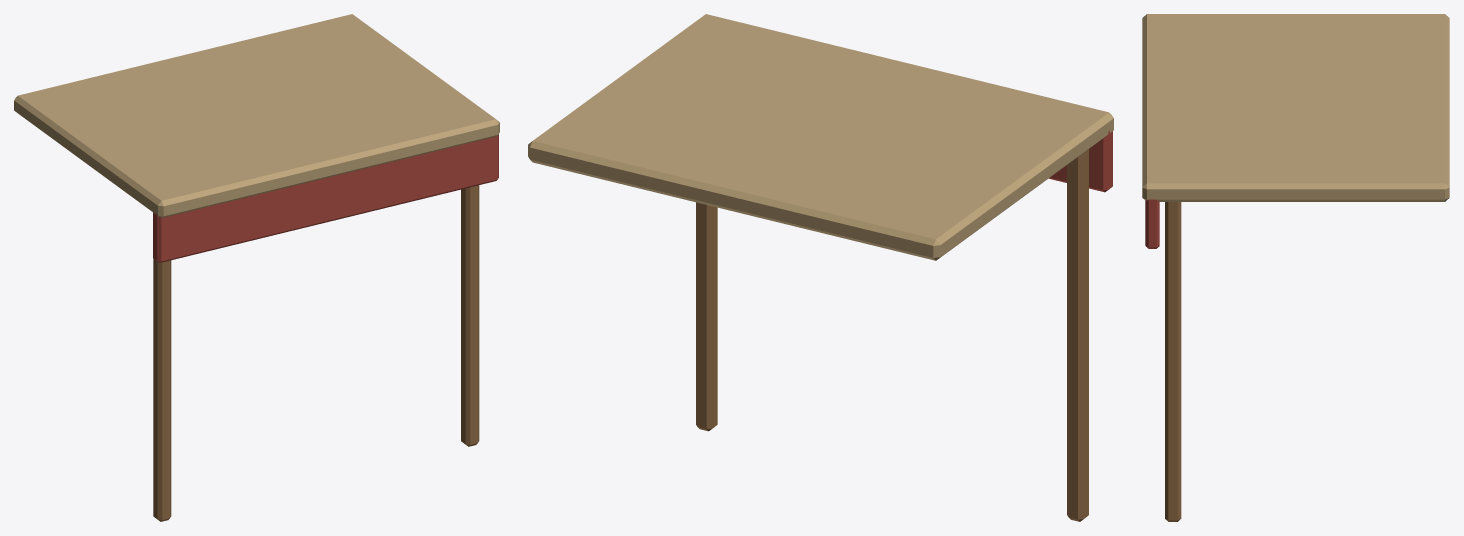
Rendered from architecture-village-awning.lod0.glb.
The picture shows the model from 3 angles, left to right: view 1: azimuth 30°, elevation 25°; view 2: azimuth 150°, elevation 25°; view 3: azimuth 270°, elevation 25°; orthographic projection. The views are drawn at different scales.
Visible parts, largest first — view 1: architecture-village-awning__body; view 2: architecture-village-awning__body; view 3: architecture-village-awning__body.
Part boxes in pixels (<box>): architecture-village-awning__body: <box>14,14,499,521</box>; architecture-village-awning__body: <box>528,14,1113,521</box>; architecture-village-awning__body: <box>1142,14,1449,521</box>.
Bounding box in the file's own units: 2 × 1.85 × 1.5.
